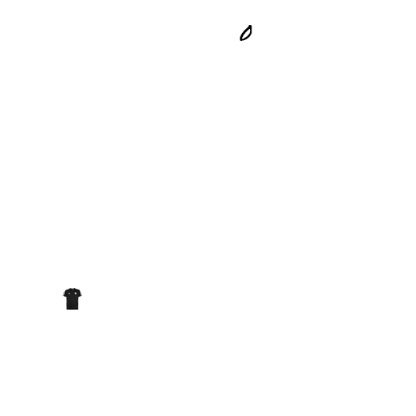0: (235, 22, 257, 44)
T-shirt/top: (61, 288, 83, 310)
